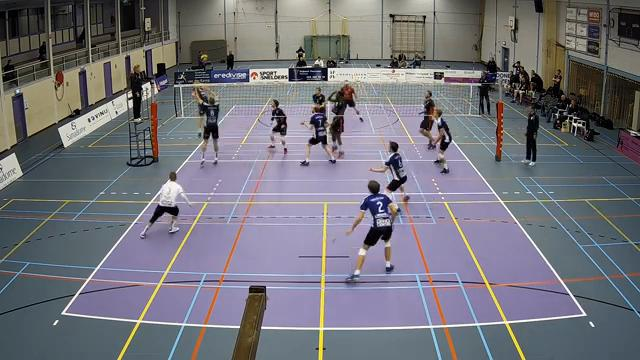Attack: (185, 78, 213, 137)
Block: (192, 83, 222, 168)
Player: (346, 180, 397, 282), (140, 172, 191, 238), (369, 141, 409, 200), (300, 105, 335, 165), (329, 91, 346, 157), (434, 108, 451, 173), (268, 100, 287, 153), (340, 81, 363, 121), (420, 91, 435, 149), (312, 87, 325, 105)
ball: (201, 54, 209, 63)
